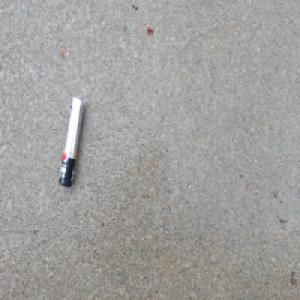Battery: (57, 94, 85, 189)
